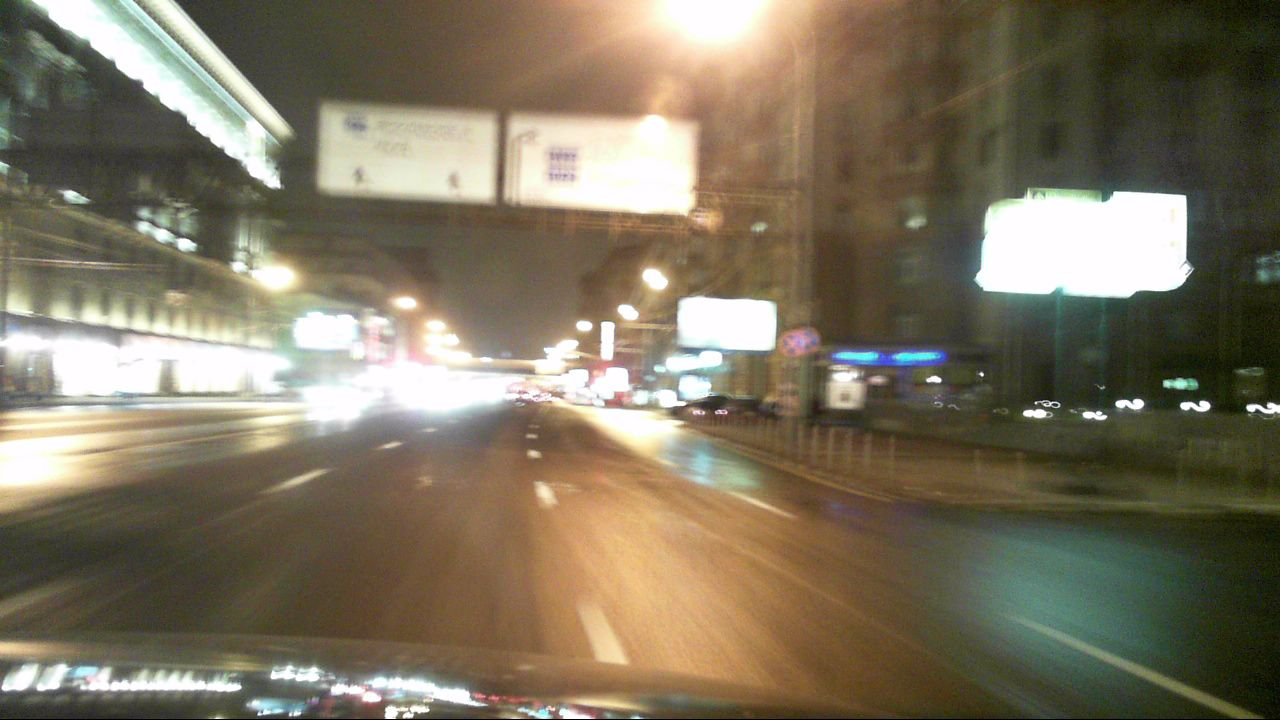No Parking: (778, 330, 805, 358)
